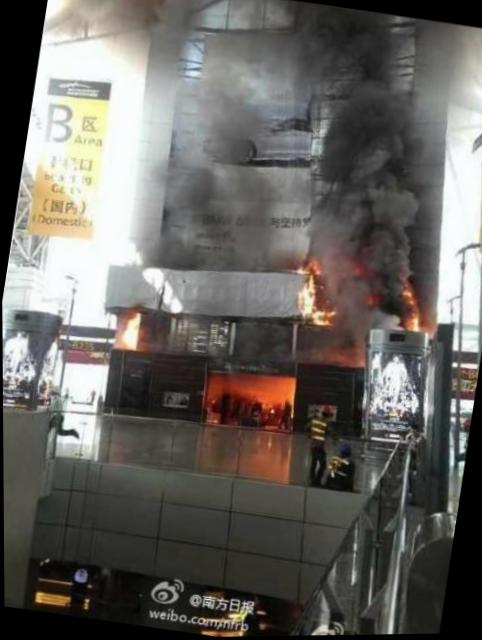fire: (205, 366, 297, 407), (293, 263, 314, 317), (115, 306, 139, 349), (302, 306, 330, 330), (407, 304, 426, 332)
